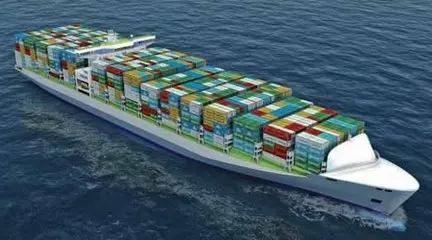Cargoship: (10, 22, 420, 215)
